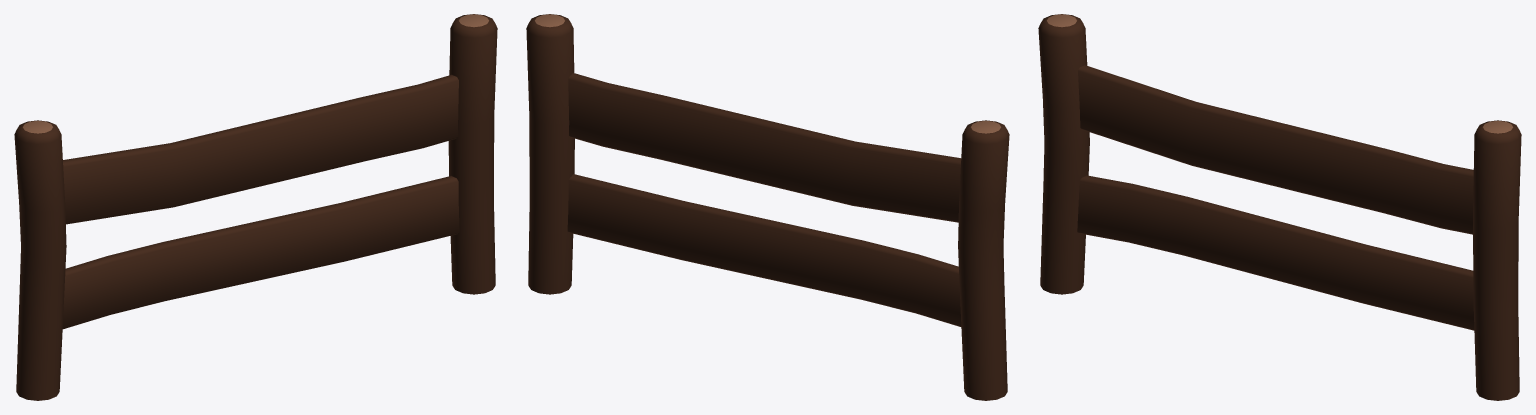
File: Fence_2.fbx
The picture shows the model from 3 angles, left to right: view 1: azimuth 30°, elevation 25°; view 2: azimuth 150°, elevation 25°; view 3: azimuth 330°, elevation 25°; orthographic projection.
Parts seen in each view (by area): view 1: Fence_2; view 2: Fence_2; view 3: Fence_2.
Part boxes in pixels (x1,y1,x2,y2): Fence_2: (14,14,497,400); Fence_2: (526,14,1009,400); Fence_2: (1038,14,1521,400).
Size of the model in its own units: 1.51 by 0.8033 by 0.1295.
